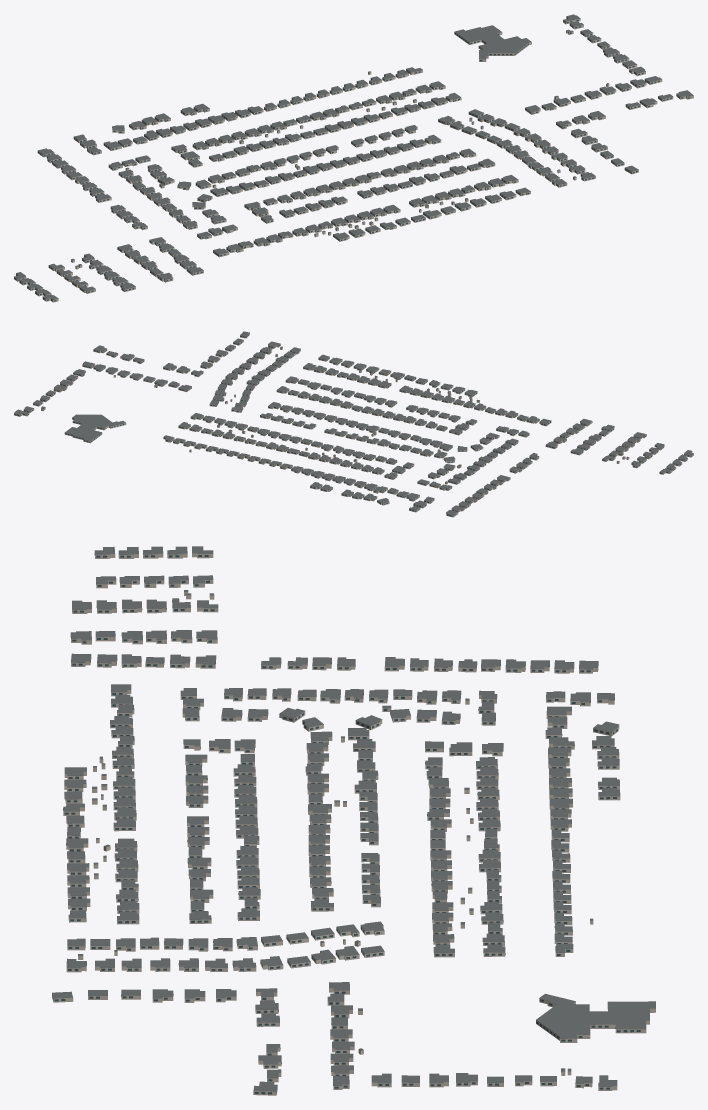
The picture shows the model from 3 angles, top to bottom: view 1: azimuth 30°, elevation 25°; view 2: azimuth 150°, elevation 25°; view 3: azimuth 270°, elevation 25°; orthographic projection. The views are drawn at different scales.
Visible parts, largest first — view 1: Buildings (0, -10) Roof membrane, Buildings (0, -10) Masonry brick, Buildings (0, -10) Architectural tinted glass, Buildings (0, -10) Metal coping; view 2: Buildings (0, -10) Roof membrane, Buildings (0, -10) Masonry brick, Buildings (0, -10) Architectural tinted glass, Buildings (0, -10) Metal coping; view 3: Buildings (0, -10) Roof membrane, Buildings (0, -10) Masonry brick, Buildings (0, -10) Metal coping, Buildings (0, -10) Architectural tinted glass.
Boxes of the visible parts, bbox=[...] form: Buildings (0, -10) Roof membrane: bbox=[14, 14, 693, 299]; Buildings (0, -10) Masonry brick: bbox=[14, 16, 693, 302]; Buildings (0, -10) Architectural tinted glass: bbox=[14, 17, 690, 301]; Buildings (0, -10) Metal coping: bbox=[16, 14, 692, 298]; Buildings (0, -10) Roof membrane: bbox=[14, 331, 693, 515]; Buildings (0, -10) Masonry brick: bbox=[14, 333, 693, 517]; Buildings (0, -10) Architectural tinted glass: bbox=[14, 335, 692, 516]; Buildings (0, -10) Metal coping: bbox=[14, 331, 693, 509]; Buildings (0, -10) Roof membrane: bbox=[52, 546, 655, 1091]; Buildings (0, -10) Masonry brick: bbox=[52, 549, 655, 1095]; Buildings (0, -10) Metal coping: bbox=[52, 546, 655, 1091]; Buildings (0, -10) Architectural tinted glass: bbox=[52, 553, 640, 1094].
Bounding box in the file's own units: 974 × 4.62 × 456.
